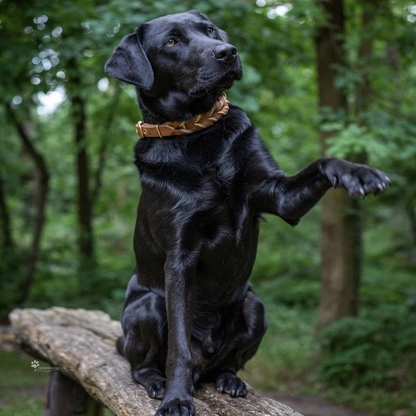labrado: (100, 7, 392, 416)
